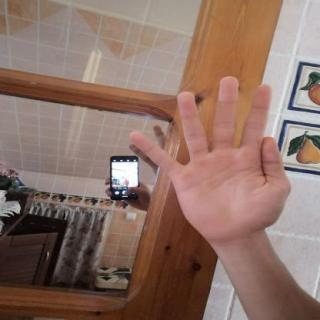SHEEN: (118, 67, 300, 248)
